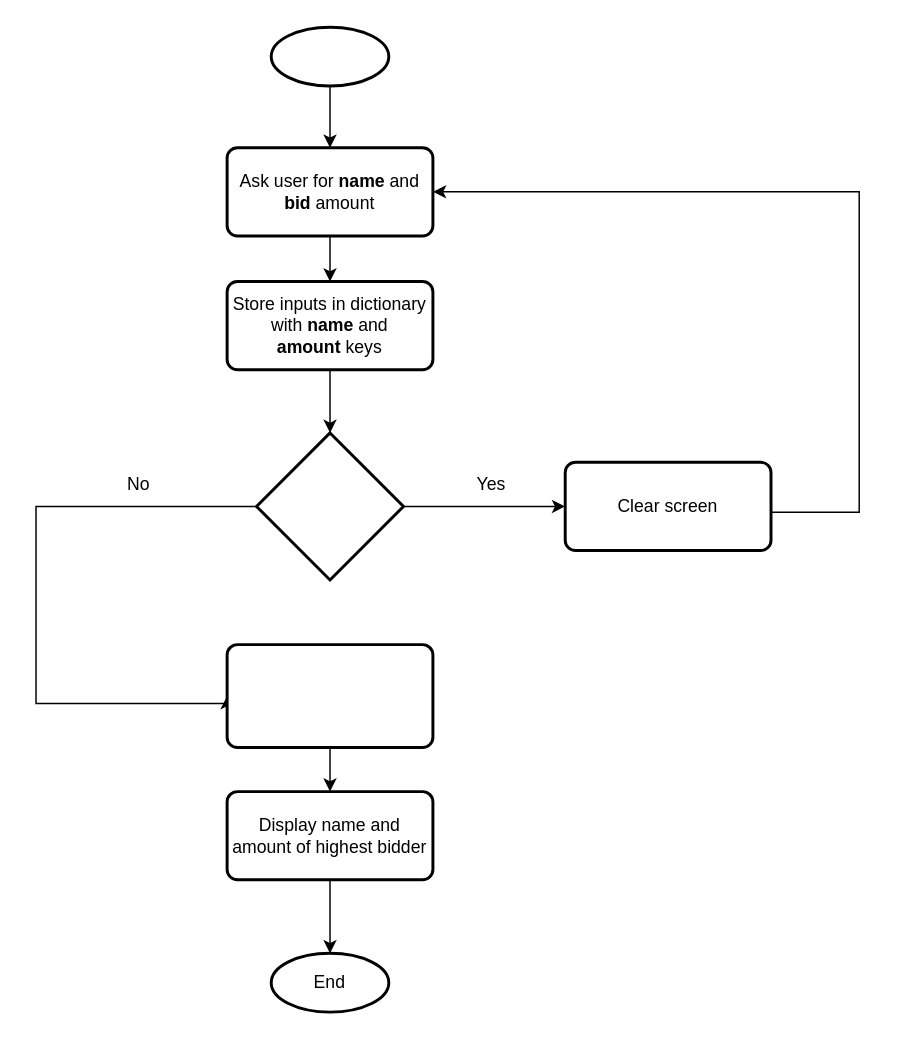
The diagram is 897 pixels wide and 1038 high, and some of its shapes have lost their labels. Each missing label, with the centre of its shape:
"Is there another bidder?" belongs at point 329,506.
"Loop through dictionary to identify the highest amount" belongs at point 329,695.
"Start" belongs at point 329,56.
